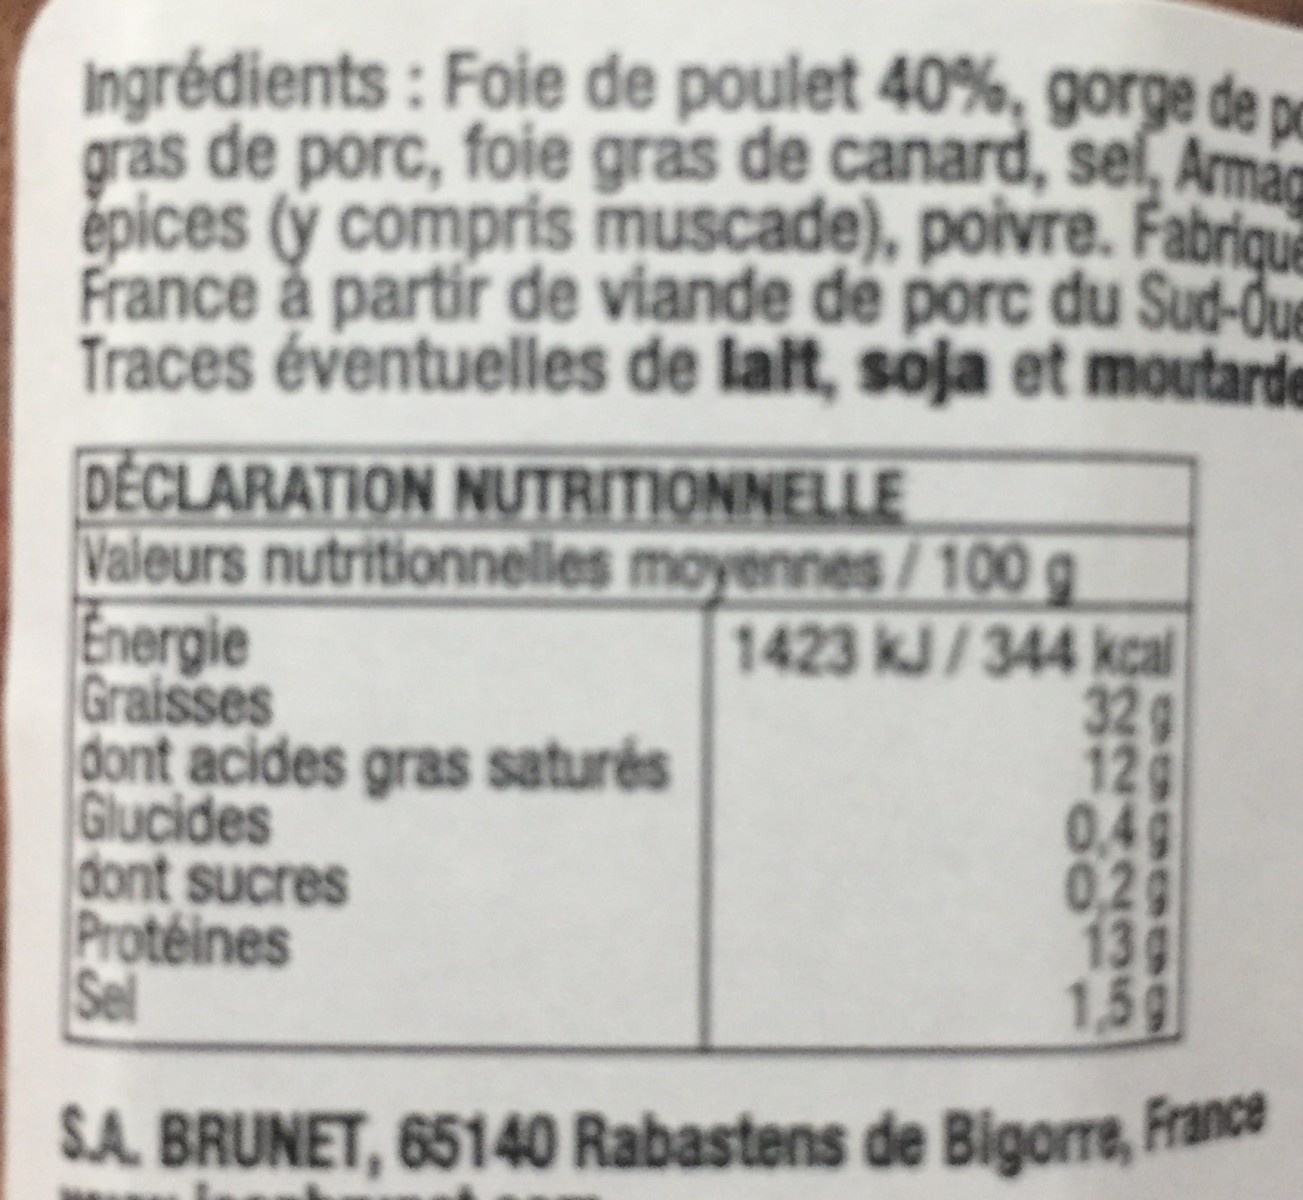column: (77, 599, 673, 1046), (733, 606, 1170, 1050)
table: (59, 435, 1199, 1068)
